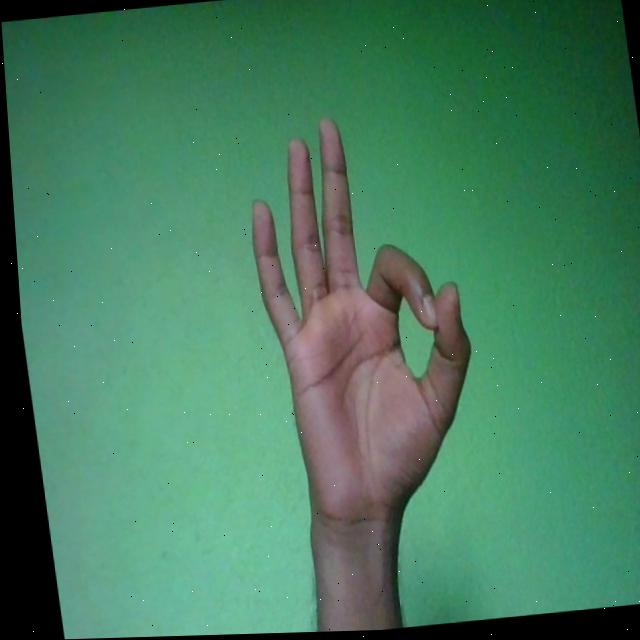Ok: (233, 106, 488, 539)
